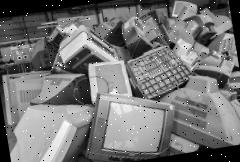electronic: (76, 80, 182, 162)
